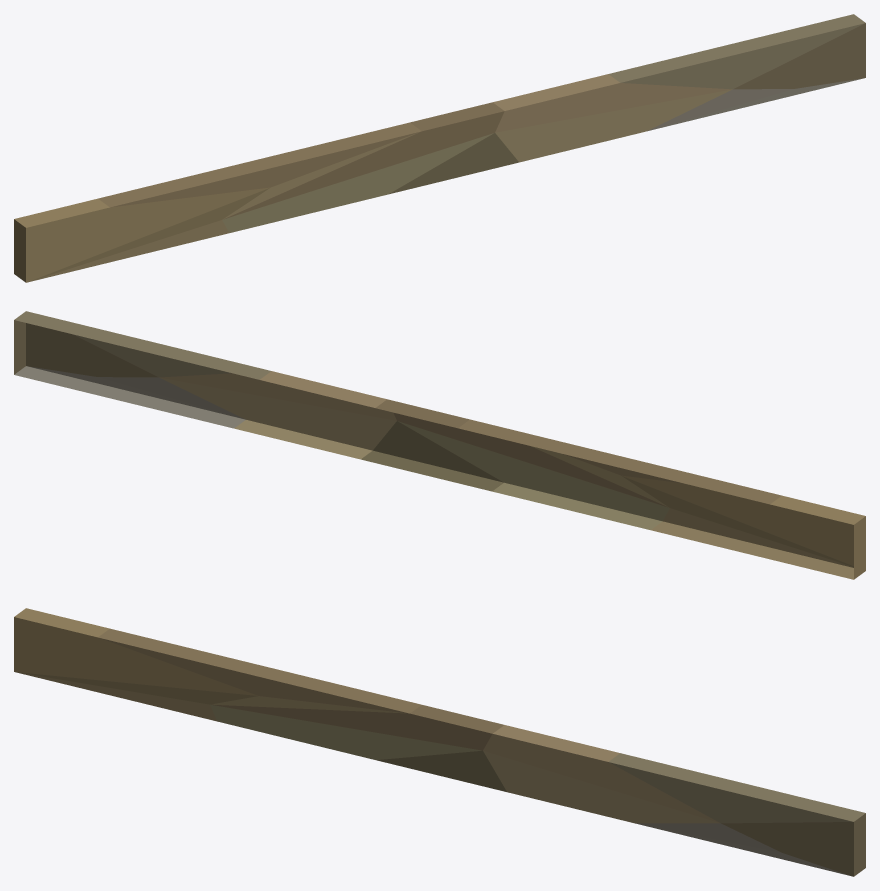
Rendered from Prop_UG-WoodC.fbx.
The picture shows the model from 3 angles, top to bottom: view 1: azimuth 30°, elevation 25°; view 2: azimuth 150°, elevation 25°; view 3: azimuth 330°, elevation 25°; orthographic projection.
Parts seen in each view (by area): view 1: Prop_UG-WoodC; view 2: Prop_UG-WoodC; view 3: Prop_UG-WoodC.
Part boxes in pixels (box(x1,y1,x2,y2)): Prop_UG-WoodC: box(14, 14, 865, 282); Prop_UG-WoodC: box(14, 311, 865, 579); Prop_UG-WoodC: box(14, 608, 865, 876).
Bounding box in the file's own units: 400 × 25 × 10.
